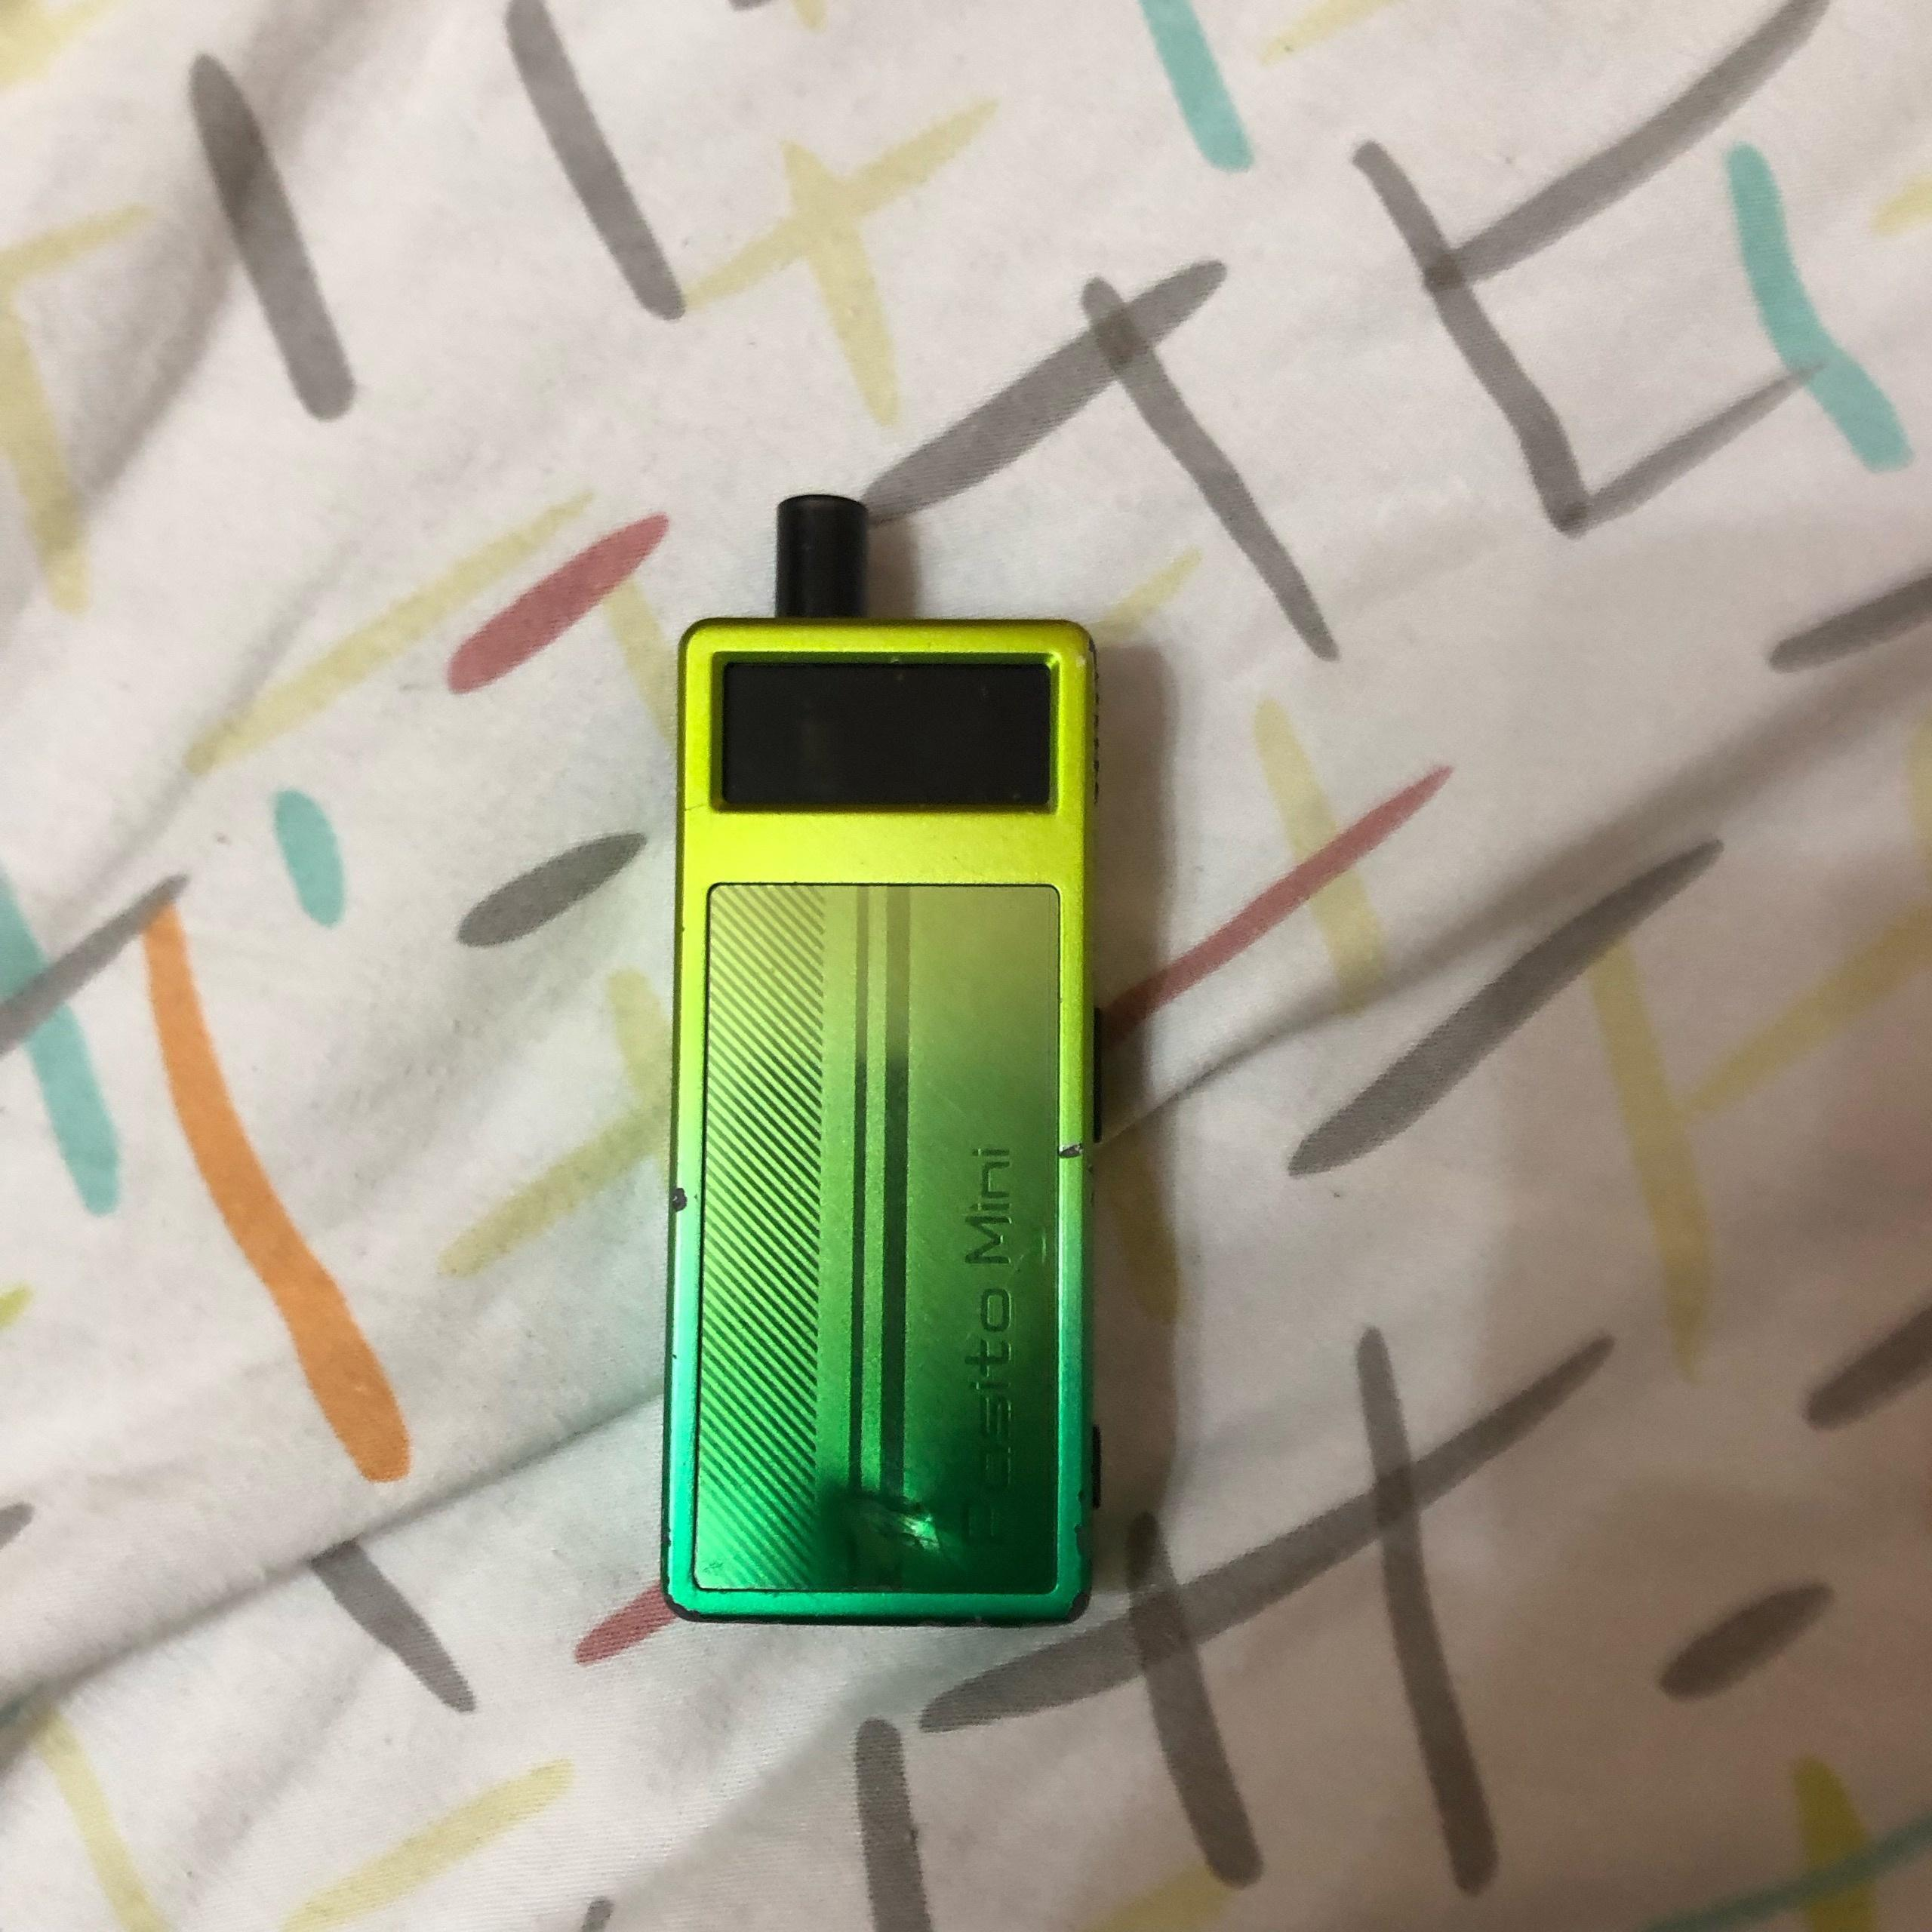Vape: (663, 494, 1100, 1624)
